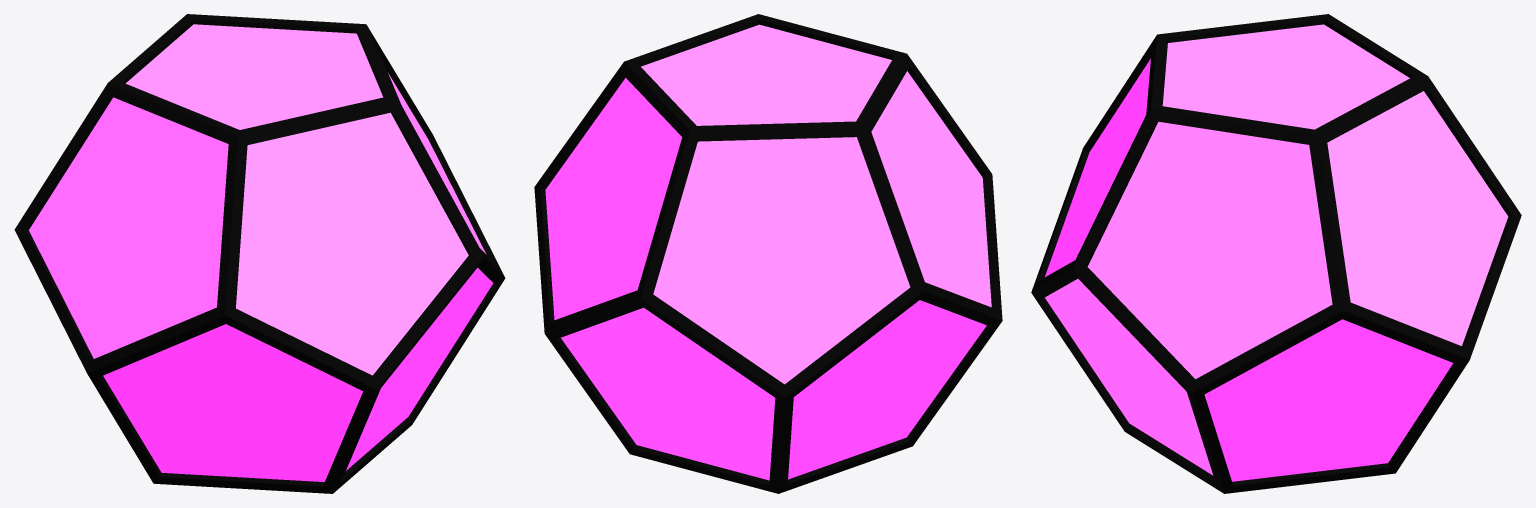
The model's file is SFI0210002.fbx.
3 renders of one model, left to right at view 1: azimuth 30°, elevation 25°; view 2: azimuth 150°, elevation 25°; view 3: azimuth 270°, elevation 25°, orthographic. The views are drawn at different scales.
Visible parts, largest first — view 1: smSFI0210002; view 2: smSFI0210002; view 3: smSFI0210002.
Part boxes in pixels (x1,y1,x2,y2): smSFI0210002: (14, 14, 505, 493); smSFI0210002: (534, 14, 1002, 493); smSFI0210002: (1031, 14, 1521, 493).
Size of the model in its own units: 134 by 113 by 139.
